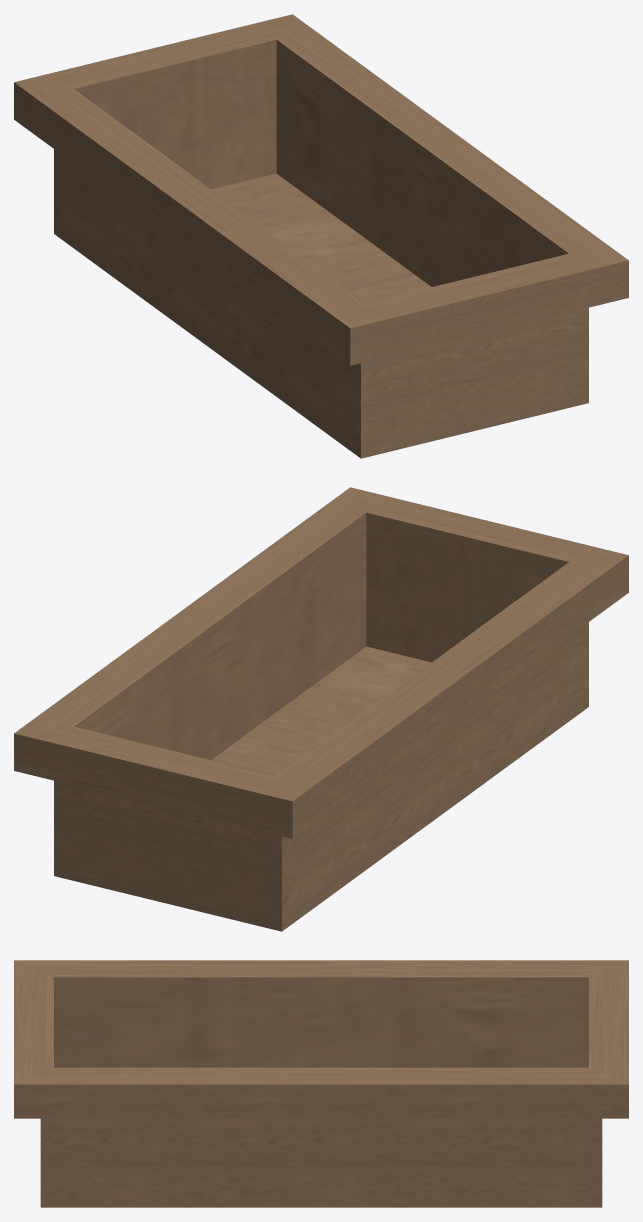
The model's file is flower pot.fbx.
3 views of the same model, one above another, from view 1: azimuth 30°, elevation 25°; view 2: azimuth 150°, elevation 25°; view 3: azimuth 270°, elevation 25° (orthographic). The views are drawn at different scales.
Parts seen in each view (by area): view 1: pCube19; view 2: pCube19; view 3: pCube19.
Part boxes in pixels (x1,y1,x2,y2): pCube19: (14, 14, 628, 458); pCube19: (14, 487, 628, 931); pCube19: (14, 960, 628, 1207).
Size of the model in its own units: 0.55 by 0.2775 by 1.15.
